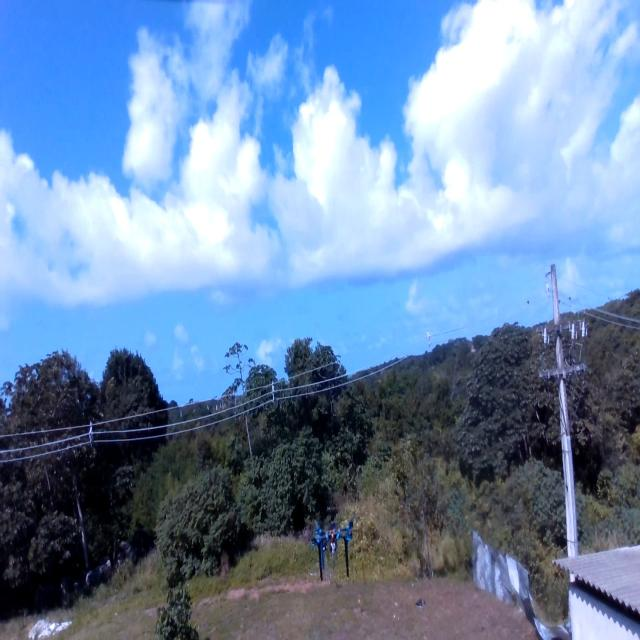-uav-: (305, 508, 367, 591)
